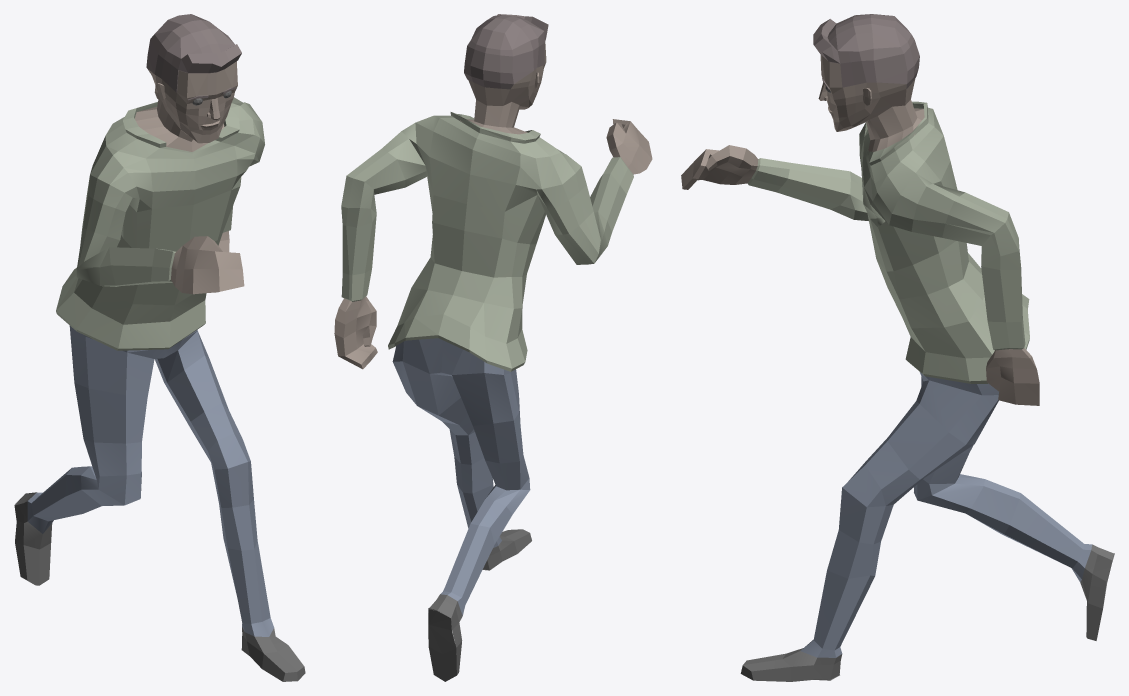
Rendered from run_8.glb.
3 renders of one model, left to right at view 1: azimuth 30°, elevation 25°; view 2: azimuth 150°, elevation 25°; view 3: azimuth 270°, elevation 25°, orthographic. The views are drawn at different scales.
Visible parts, largest first — view 1: BaseHuman_baked; view 2: BaseHuman_baked; view 3: BaseHuman_baked.
Part boxes in pixels (x1,y1,x2,y2): BaseHuman_baked: (14, 14, 305, 681); BaseHuman_baked: (334, 14, 652, 681); BaseHuman_baked: (681, 14, 1114, 681).
Bounding box in the file's own units: 1.63 × 4.53 × 2.76.
